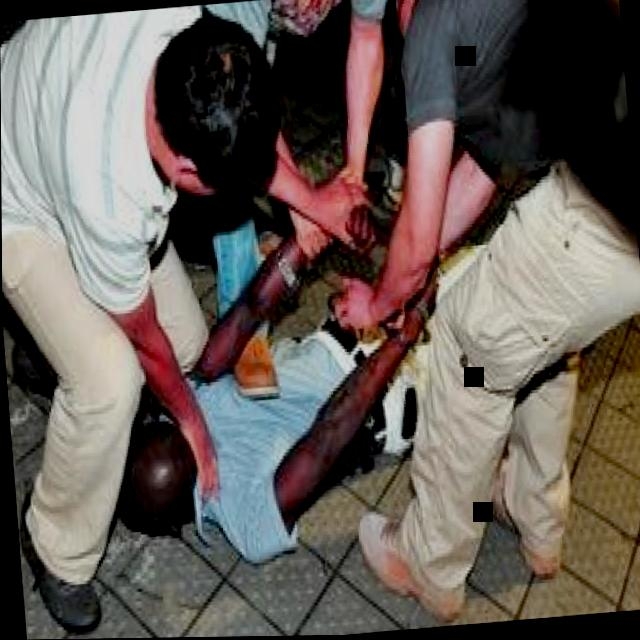Fall-Detected: (79, 178, 440, 620)
